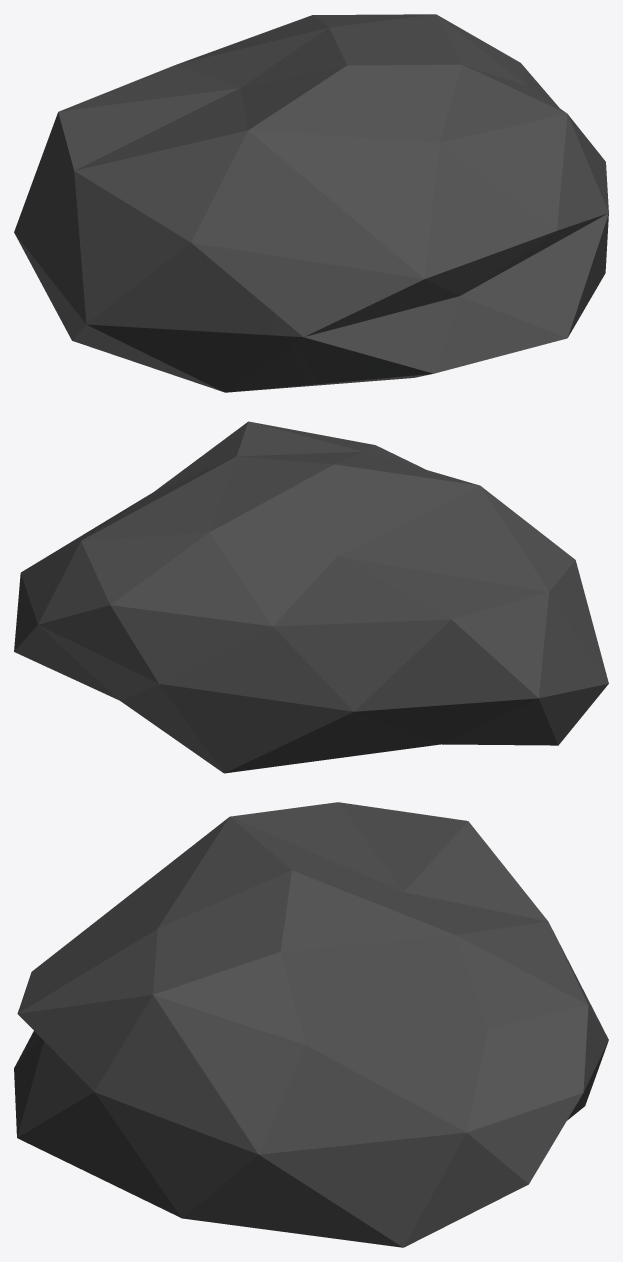
File: Stone01.fbx
3 views of the same model, one above another, from view 1: azimuth 30°, elevation 25°; view 2: azimuth 150°, elevation 25°; view 3: azimuth 270°, elevation 25° (orthographic). The views are drawn at different scales.
Visible parts, largest first — view 1: Stone01; view 2: Stone01; view 3: Stone01.
Part boxes in pixels (x1,y1,x2,y2): Stone01: [14, 14, 608, 392]; Stone01: [14, 421, 608, 773]; Stone01: [14, 802, 608, 1247].
Bounding box in the file's own units: 178 × 78.29 × 154.
